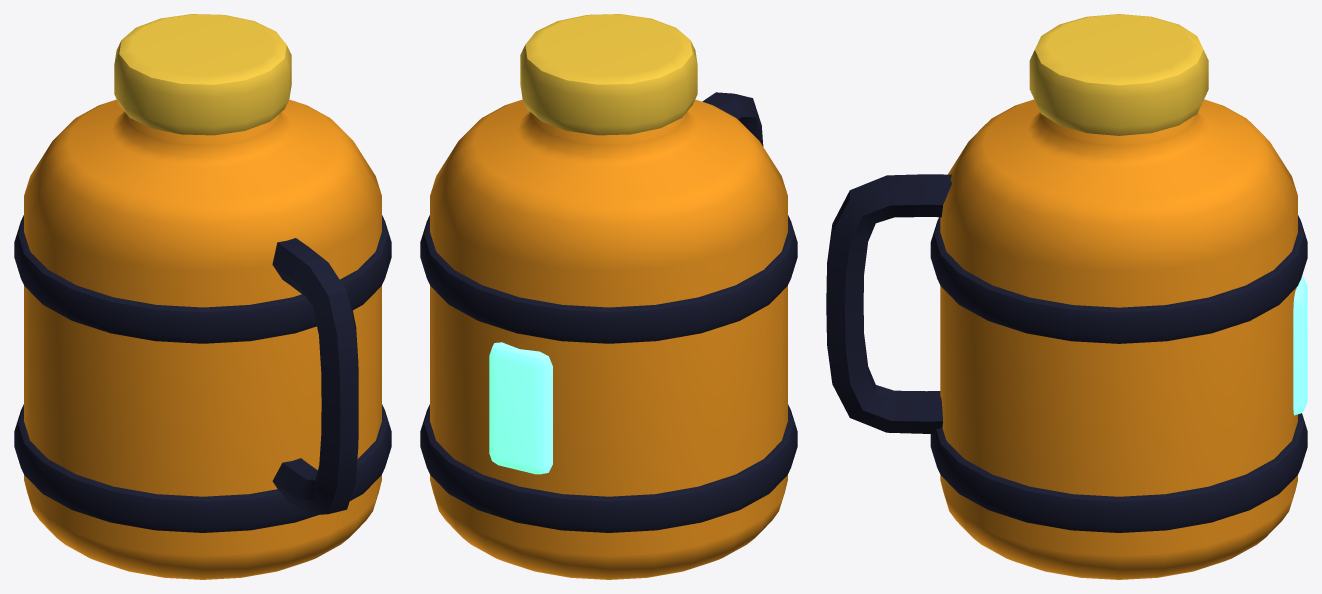
Rendered from canister.glb.
3 views of the same model, side by side, from view 1: azimuth 30°, elevation 25°; view 2: azimuth 150°, elevation 25°; view 3: azimuth 270°, elevation 25° (orthographic).
Parts seen in each view (by area): view 1: Body; view 2: Body; view 3: Body.
Part boxes in pixels (left/top/right/bottom): Body: left=14, top=14, right=391, bottom=579; Body: left=420, top=14, right=797, bottom=579; Body: left=826, top=14, right=1307, bottom=579.
Bounding box in the file's own units: 0.316 × 0.4395 × 0.4036.
